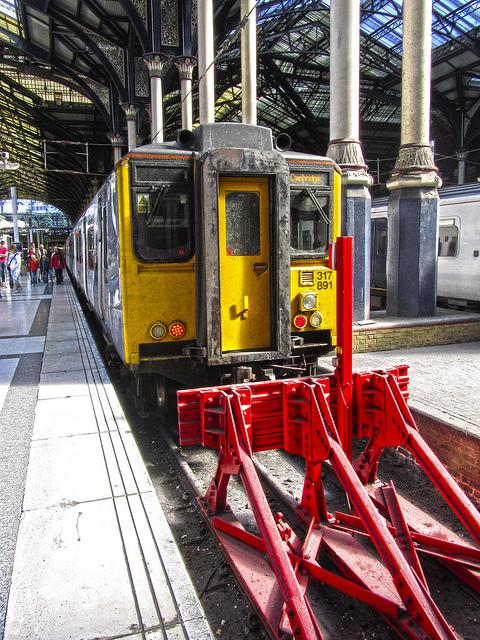Train: (58, 118, 349, 408), (371, 182, 480, 316)
